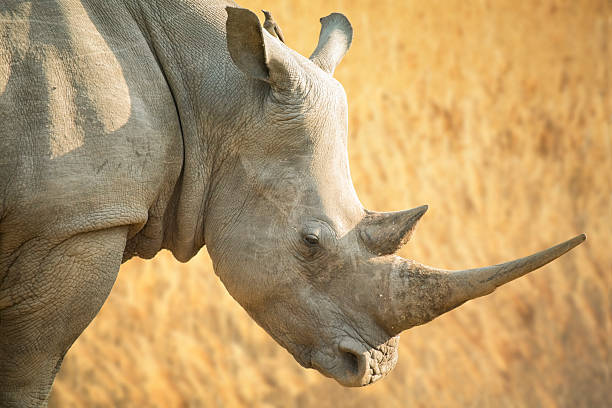rhino: (199, 1, 612, 401)
